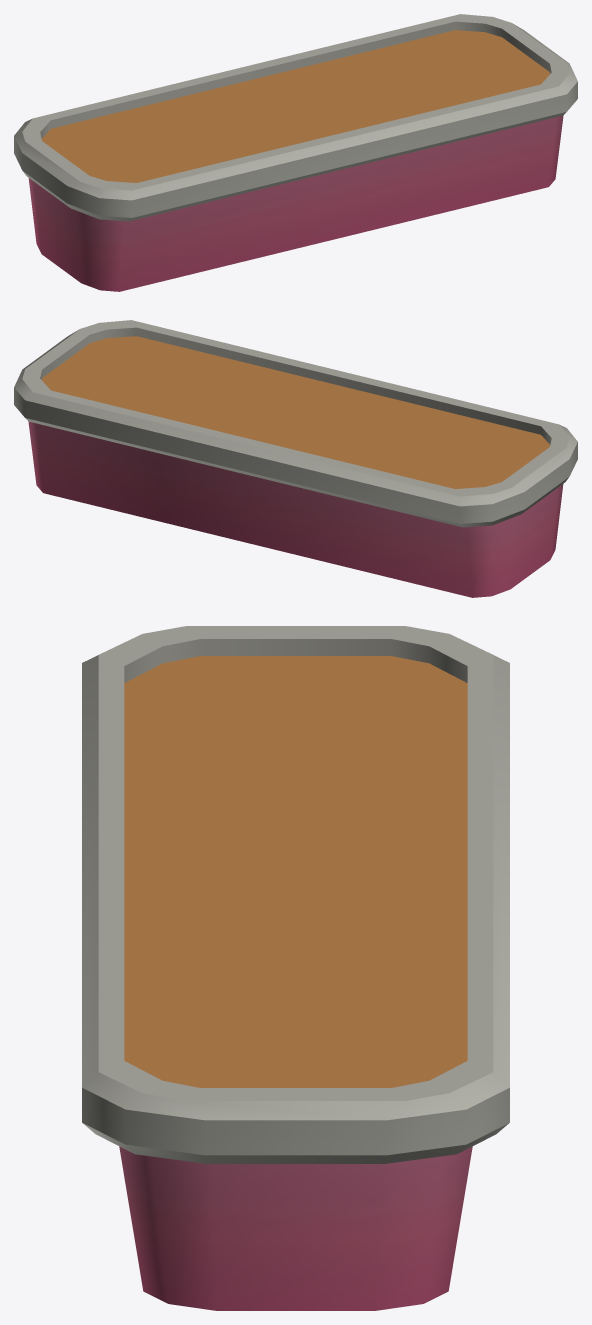
The model's file is BushPot_1_D.fbx.
3 renders of one model, top to bottom at view 1: azimuth 30°, elevation 25°; view 2: azimuth 150°, elevation 25°; view 3: azimuth 270°, elevation 25°, orthographic. The views are drawn at different scales.
Parts seen in each view (by area): view 1: BushPot_1_D; view 2: BushPot_1_D; view 3: BushPot_1_D.
Part boxes in pixels (x1,y1,x2,y2): BushPot_1_D: (14,14,577,291); BushPot_1_D: (14,320,577,597); BushPot_1_D: (82,626,509,1310).
Size of the model in its own units: 220 by 45.75 by 81.2.
